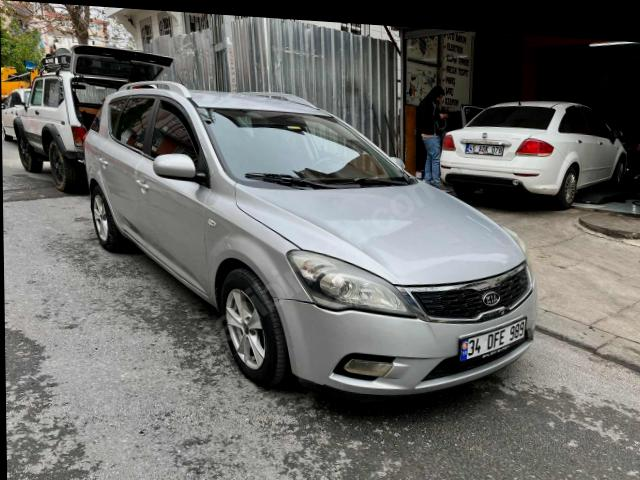plaka: (460, 319, 525, 361), (465, 143, 504, 156)
